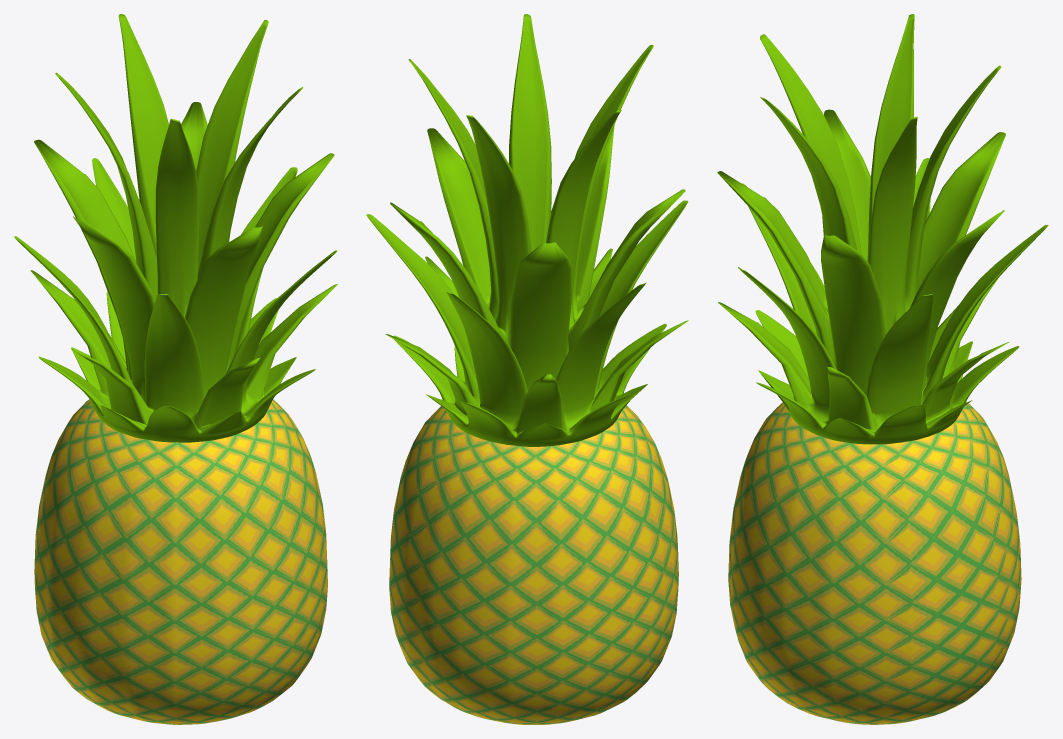
File: Pineapple.fbx
The picture shows the model from 3 angles, left to right: view 1: azimuth 30°, elevation 25°; view 2: azimuth 150°, elevation 25°; view 3: azimuth 270°, elevation 25°; orthographic projection.
Parts seen in each view (by area): view 1: Pineapple; view 2: Pineapple; view 3: Pineapple.
Boxes of the visible parts, <box> form: Pineapple: <box>14,14,337,724</box>; Pineapple: <box>366,14,688,724</box>; Pineapple: <box>717,14,1048,724</box>.
Bounding box in the file's own units: 21.3 × 45.96 × 21.74.
2 materials, 1 textured.
